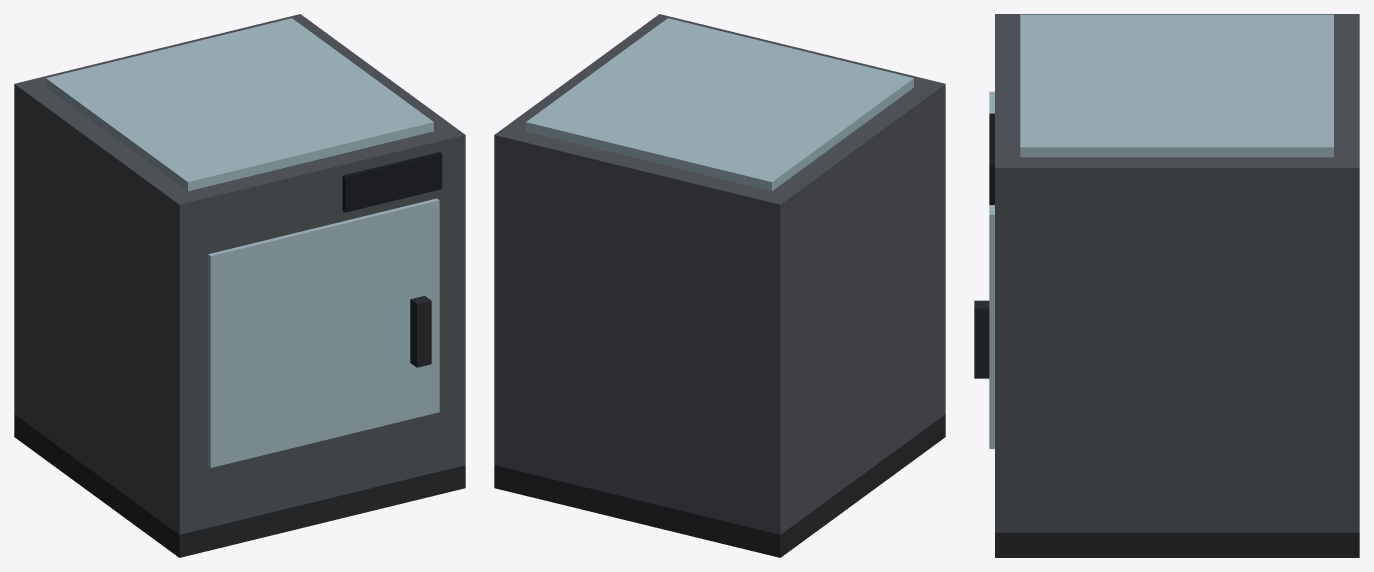
File: printer.glb
The picture shows the model from 3 angles, left to right: view 1: azimuth 30°, elevation 25°; view 2: azimuth 150°, elevation 25°; view 3: azimuth 270°, elevation 25°; orthographic projection. The views are drawn at different scales.
Parts seen in each view (by area): view 1: printer; view 2: printer; view 3: printer.
Part boxes in pixels (bbox=[...]): printer: bbox=[14, 14, 465, 557]; printer: bbox=[494, 14, 945, 557]; printer: bbox=[974, 14, 1359, 557].
Bounding box in the file's own units: 0.39 × 0.472 × 0.412.
